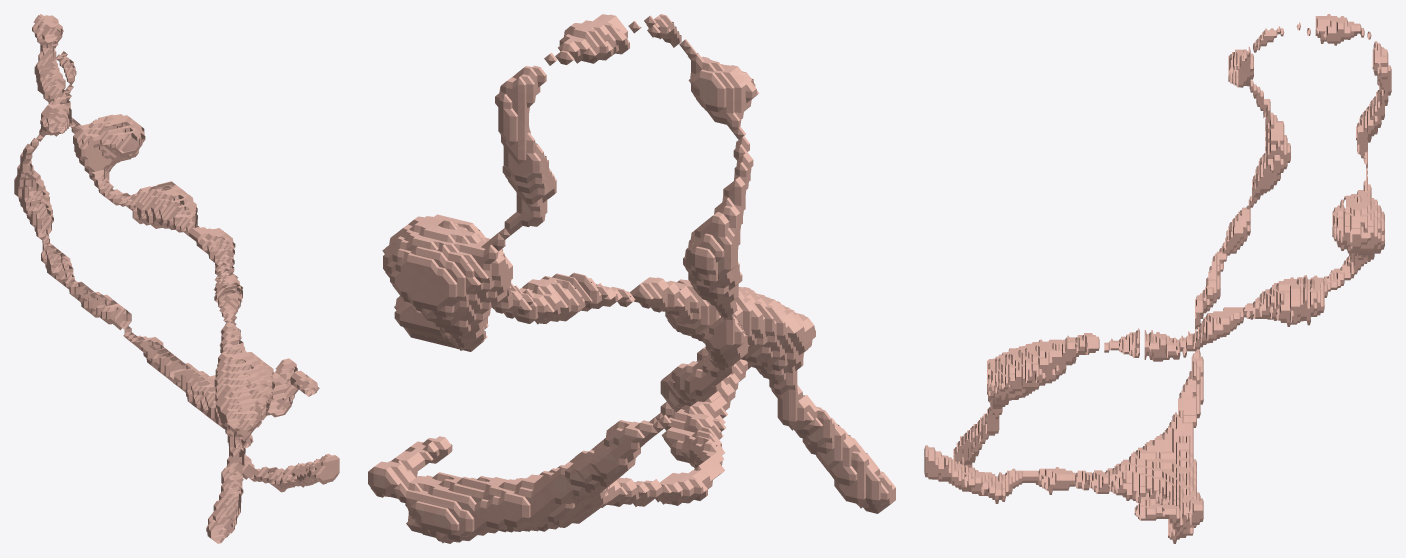
The model's file is SVV_SMBVL.gltf.
The picture shows the model from 3 angles, left to right: view 1: azimuth 30°, elevation 25°; view 2: azimuth 150°, elevation 25°; view 3: azimuth 270°, elevation 25°; orthographic projection. The views are drawn at different scales.
Parts seen in each view (by area): view 1: SMBVL; view 2: SMBVL; view 3: SMBVL.
Part boxes in pixels (box(x1,y1,x2,y2)): SMBVL: box(14, 14, 339, 543); SMBVL: box(368, 14, 895, 543); SMBVL: box(924, 14, 1391, 543).
Size of the model in its own units: 36379 by 57371 by 53531.
